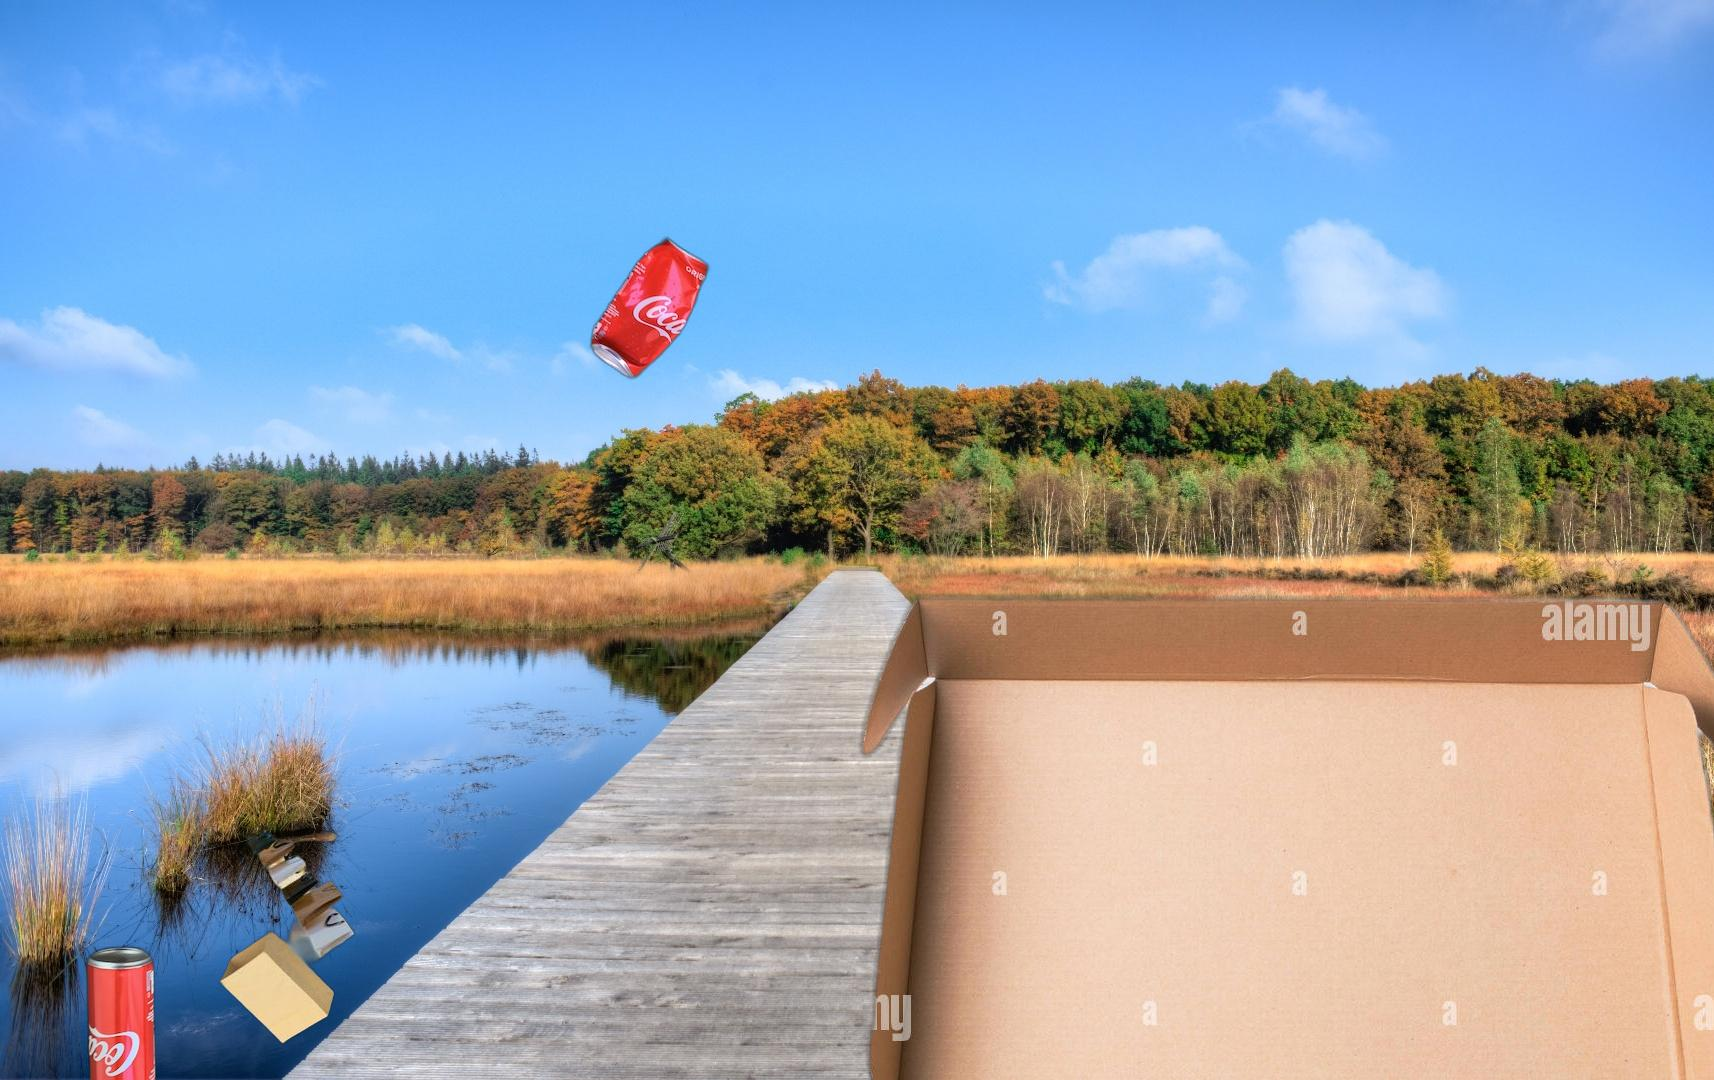metal-cans: (82, 589, 290, 1080), (587, 231, 713, 384)
paper-bag: (192, 820, 358, 1045)
trashbox-cardboard: (850, 584, 1714, 1080)
